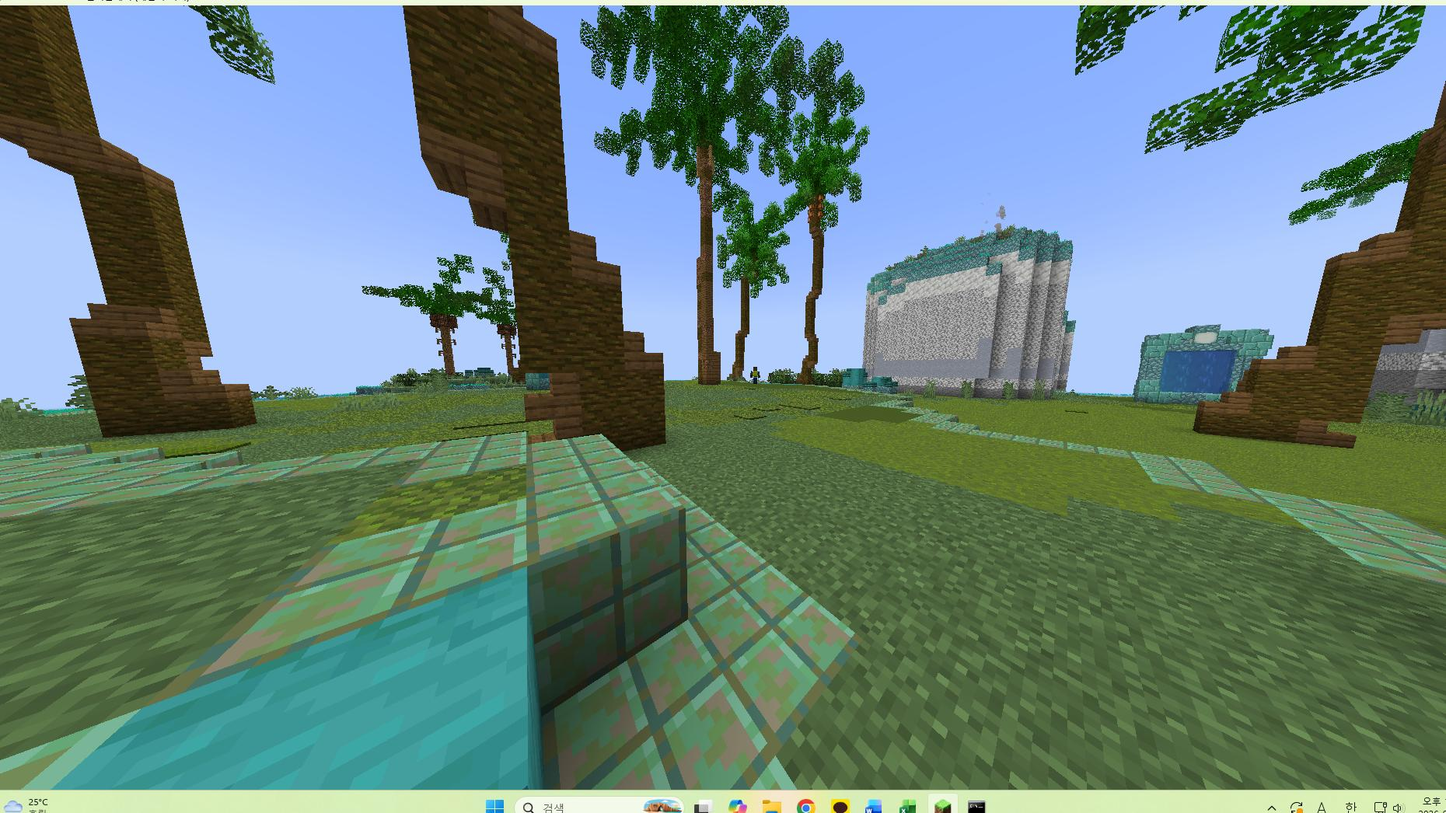Guardian: (751, 368, 759, 384)
